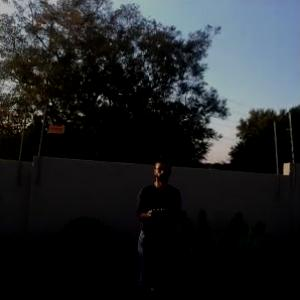follow: (130, 151, 183, 299)
